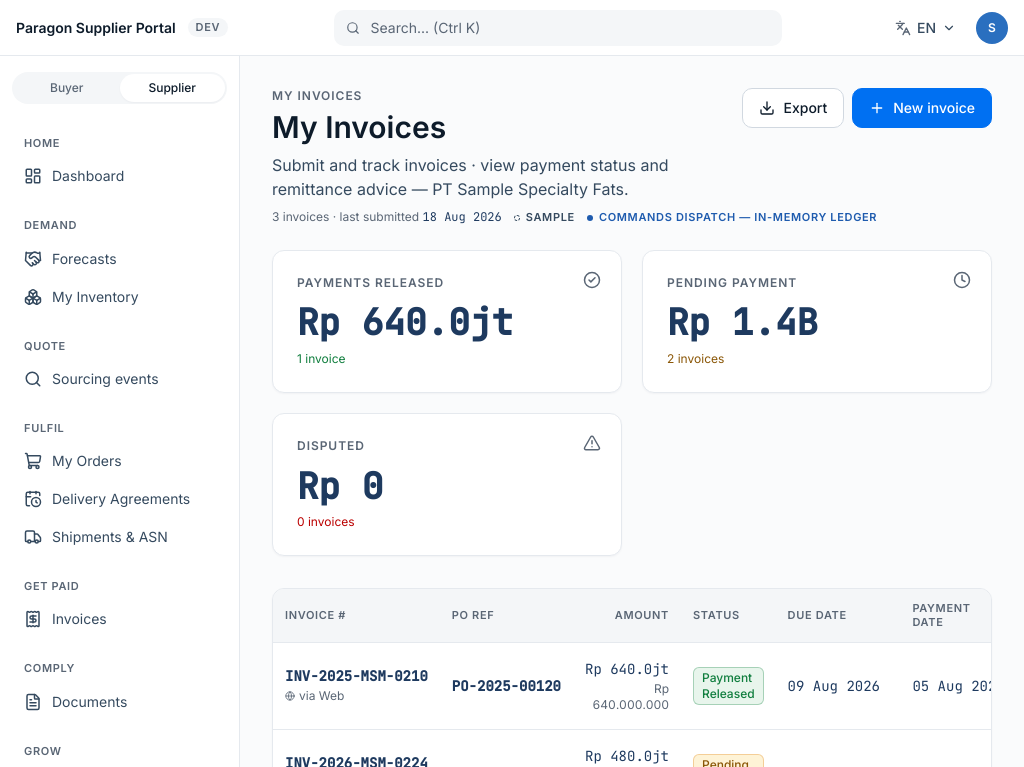
Test: SupplierInvoices — the new invoice opens on the order's lines (E2E-2) › POSITIVE TWIN — the lines open on the order's price and the accepted quantity, and the create is enabled
The width and height of the screenshot is (1024, 767).
Check: the heading "My Invoices" is shown, box left=272, top=109, right=446, bottom=145
Click the button "New invoice".
click(922, 108)  # box left=852, top=88, right=992, bottom=128
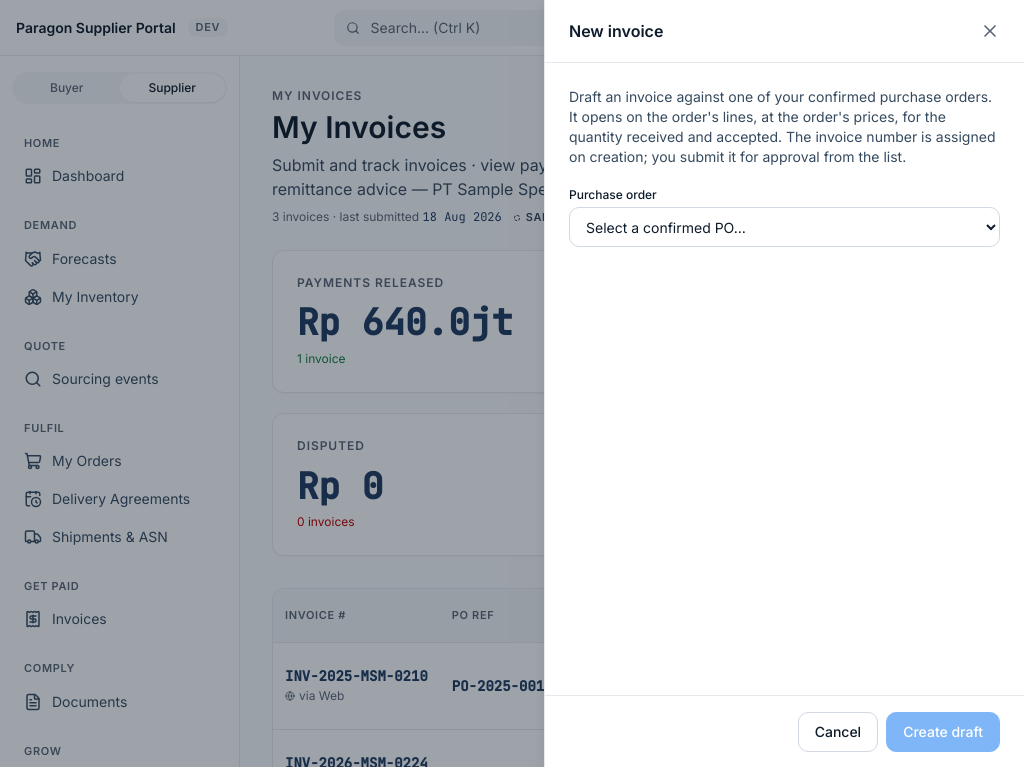
Select "PO-2025-00102" in the dropdown labelled "Purchase order" at (784,227), box left=569, top=207, right=1000, bottom=247
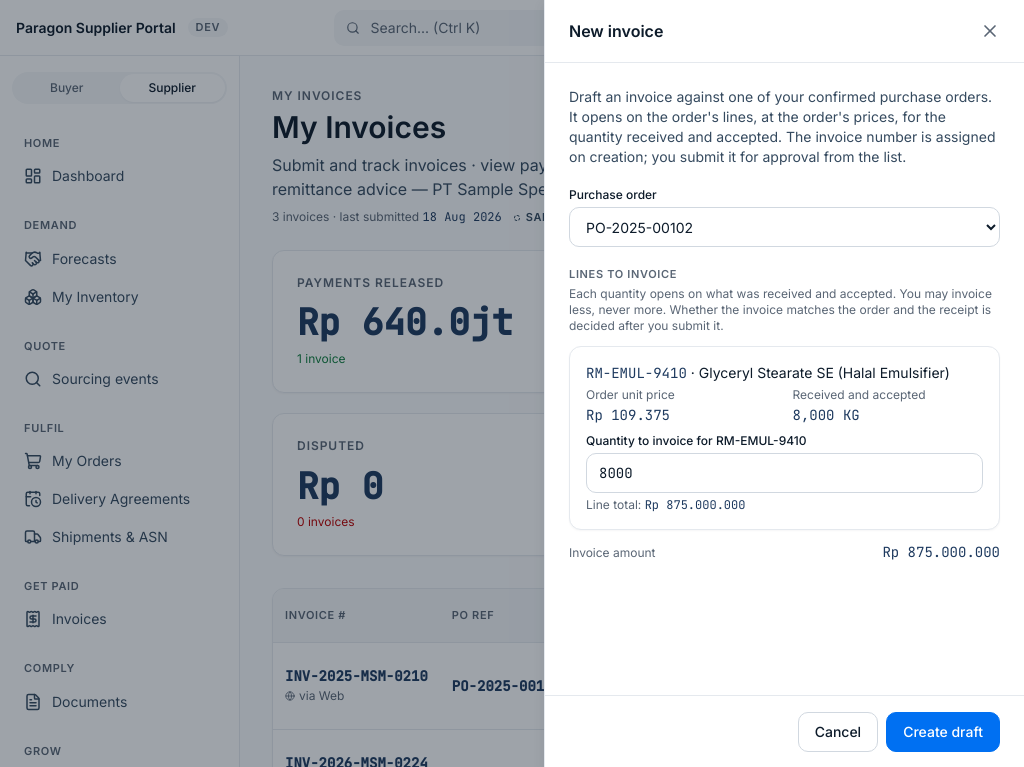
Check: the text with test id "invoice-lines-total" reads "Rp 875.000.000", box left=882, top=543, right=1000, bottom=561
Check: the button "Create draft" is enabled, box left=886, top=712, right=1000, bottom=752
